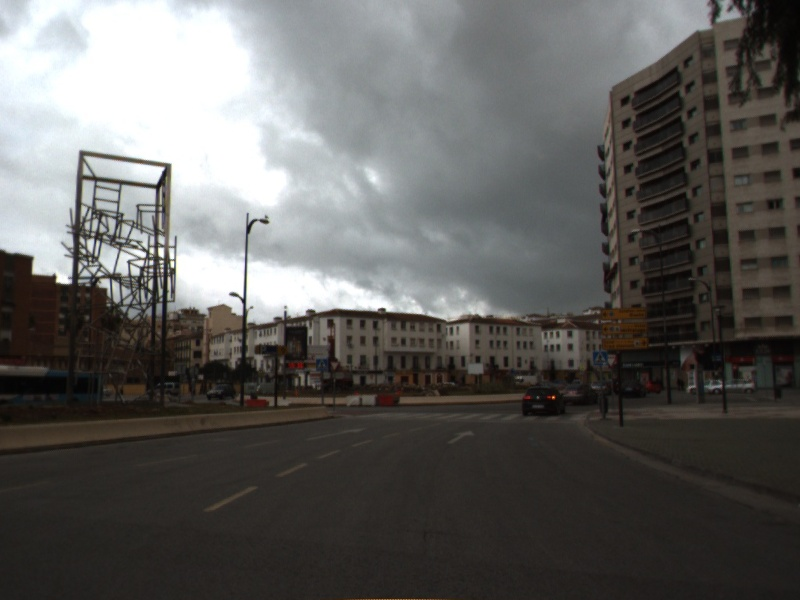STRAIGHT: (302, 426, 369, 443), (445, 428, 477, 446)
